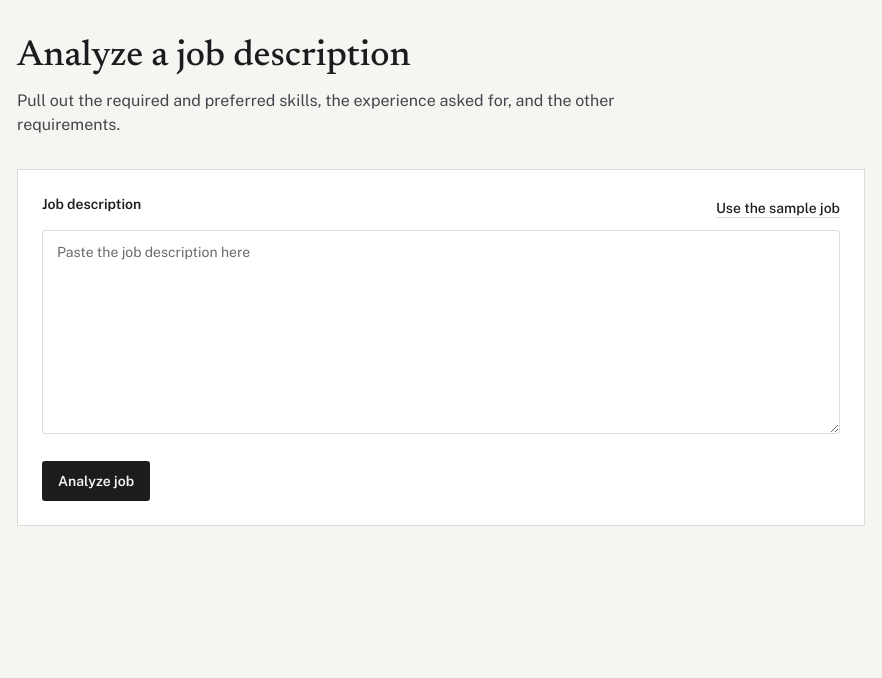
it: sample job fills the box and results show as chips
Click the button "Use the sample job" at [778, 208], box [716, 198, 840, 218]
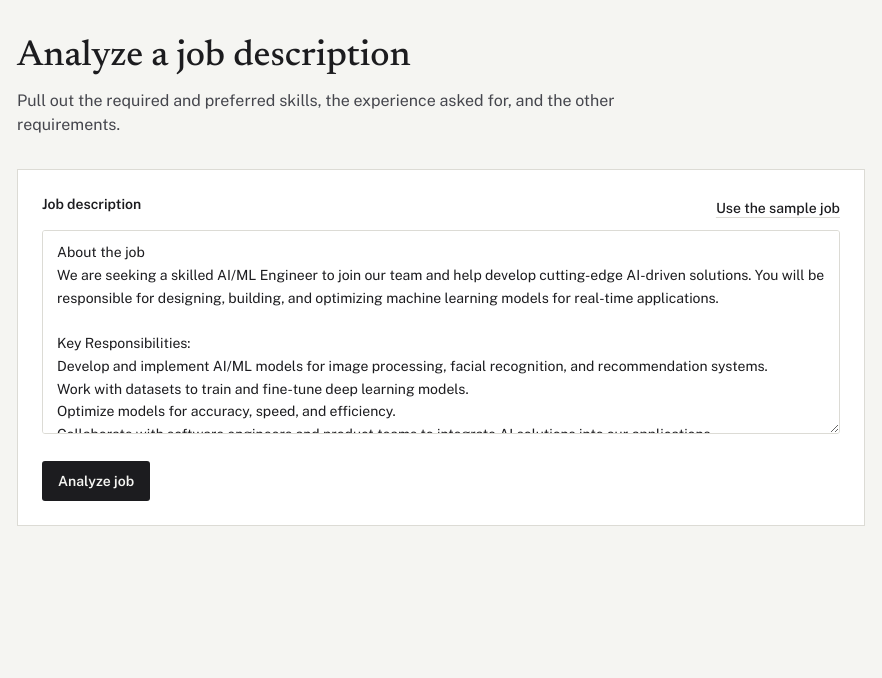
Click the button "Analyze job" at [96, 481], box [42, 461, 150, 501]
(page scrolled)
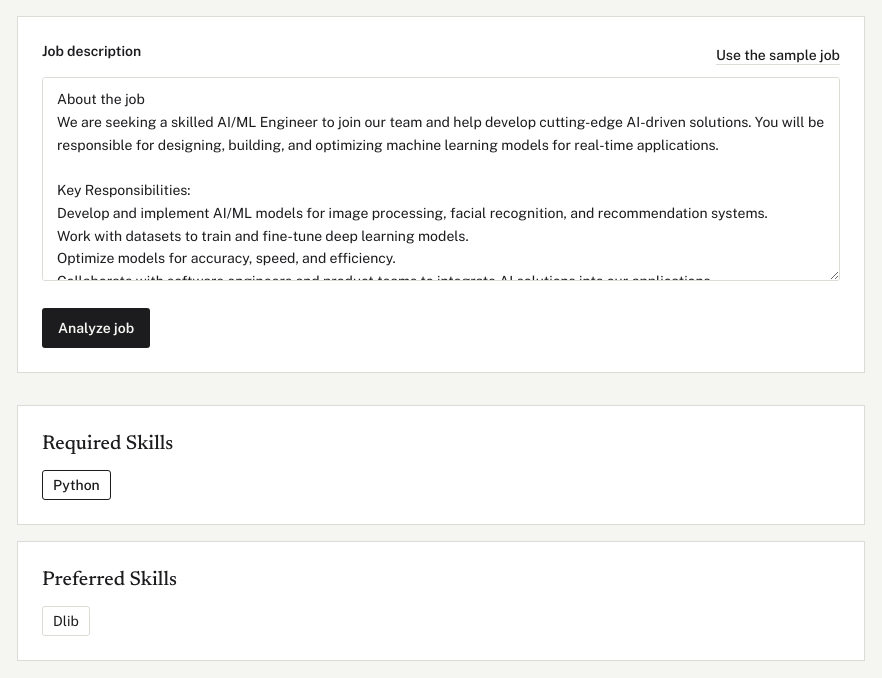
Expected: the list item "Python" is shown, [42, 470, 111, 500]
Expected: the list item "Dlib" is shown, [42, 606, 90, 636]
